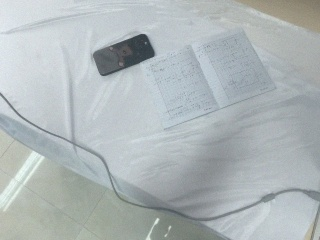phone: (92, 34, 155, 76)
